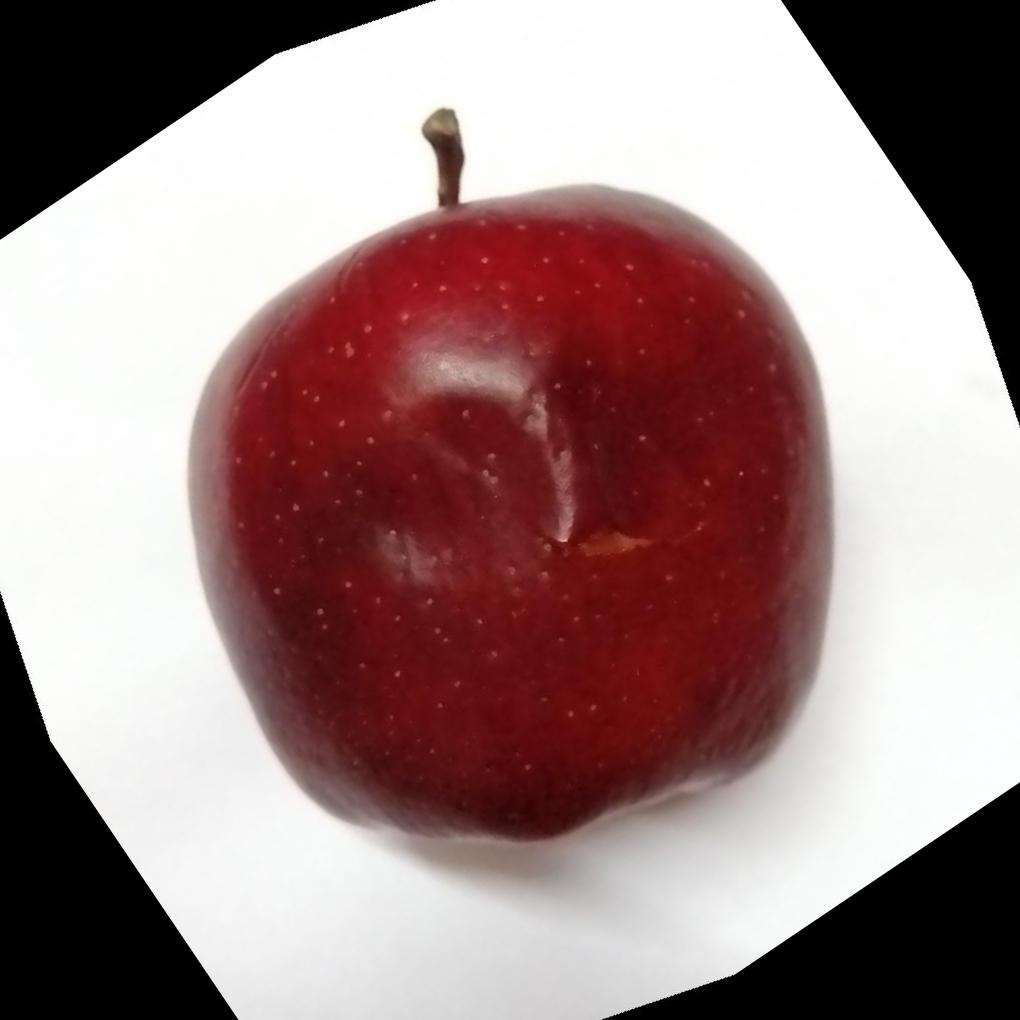FreshOrange: (185, 112, 838, 849)
